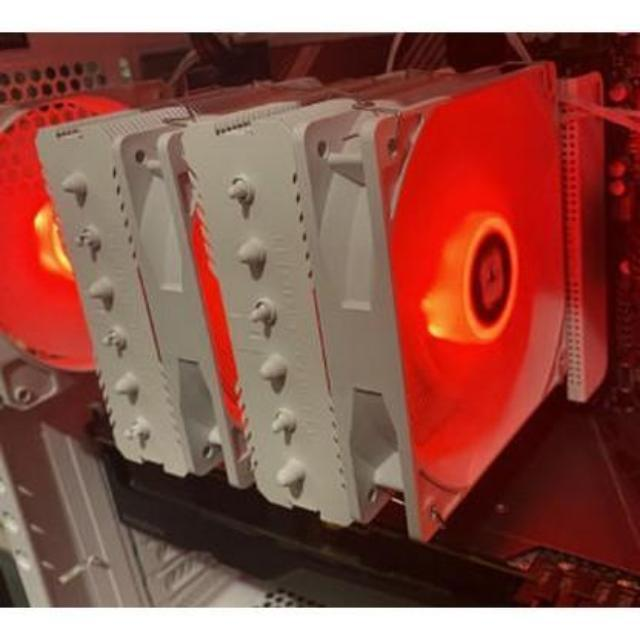CPU_Fan: (34, 56, 580, 533)
